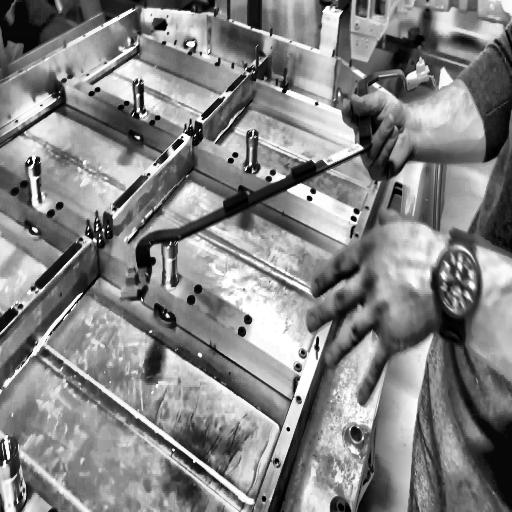b_casing: (0, 0, 415, 512)
busbar: (112, 51, 435, 308)
